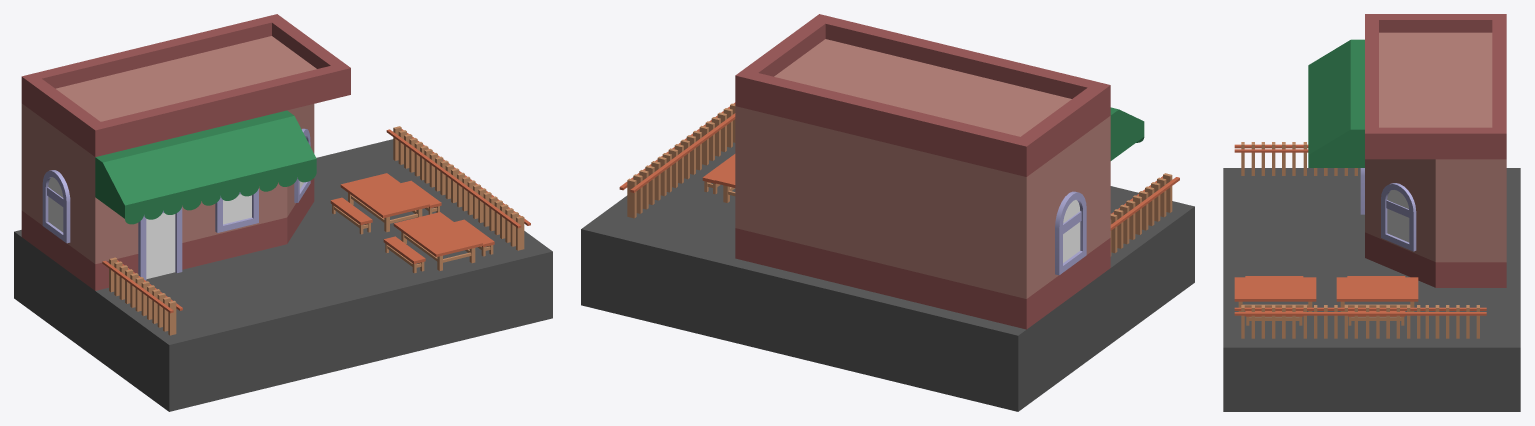
File: Cafe.fbx
The picture shows the model from 3 angles, left to right: view 1: azimuth 30°, elevation 25°; view 2: azimuth 150°, elevation 25°; view 3: azimuth 270°, elevation 25°; orthographic projection. The views are drawn at different scales.
Parts seen in each view (by area): view 1: mergedBlocks; view 2: mergedBlocks; view 3: mergedBlocks.
Boxes of the visible parts, x1,y1,x2,y2 form: mergedBlocks: (14,14,552,411); mergedBlocks: (581,14,1194,411); mergedBlocks: (1223,14,1520,411).
Size of the model in its own units: 15.15 by 8.5 by 10.5.
